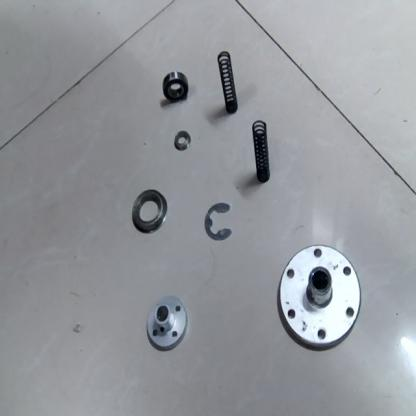FOD: (277, 242, 363, 352), (144, 292, 191, 355), (130, 186, 171, 238), (215, 47, 241, 118), (199, 197, 236, 246), (251, 115, 274, 188), (159, 67, 191, 108), (172, 128, 194, 152)
